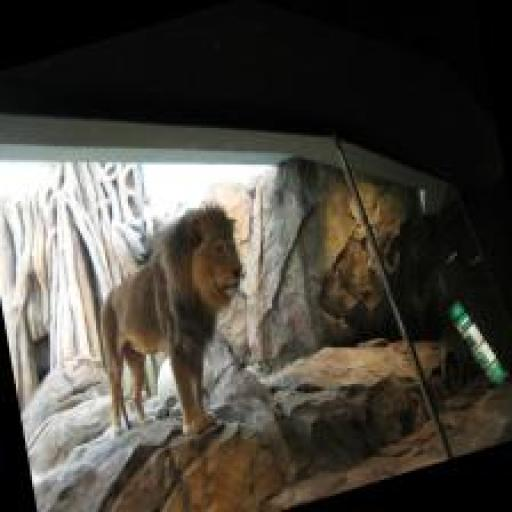lion: (75, 190, 271, 463)
